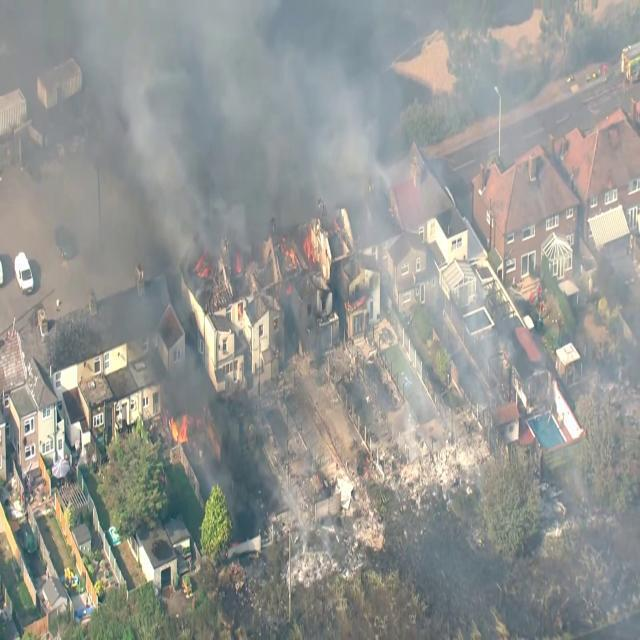Fire: (162, 410, 191, 456)
Smoke: (167, 17, 322, 196), (116, 3, 268, 164)
